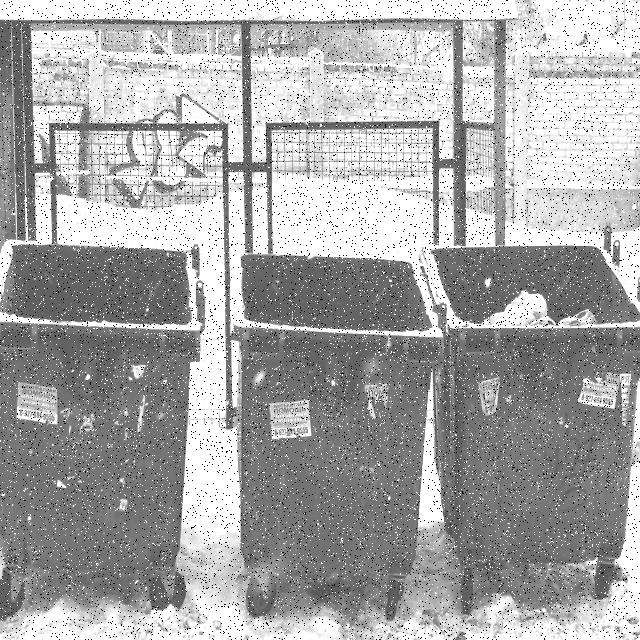Trashcan: (411, 196, 640, 616), (217, 216, 436, 626), (0, 211, 208, 617)
